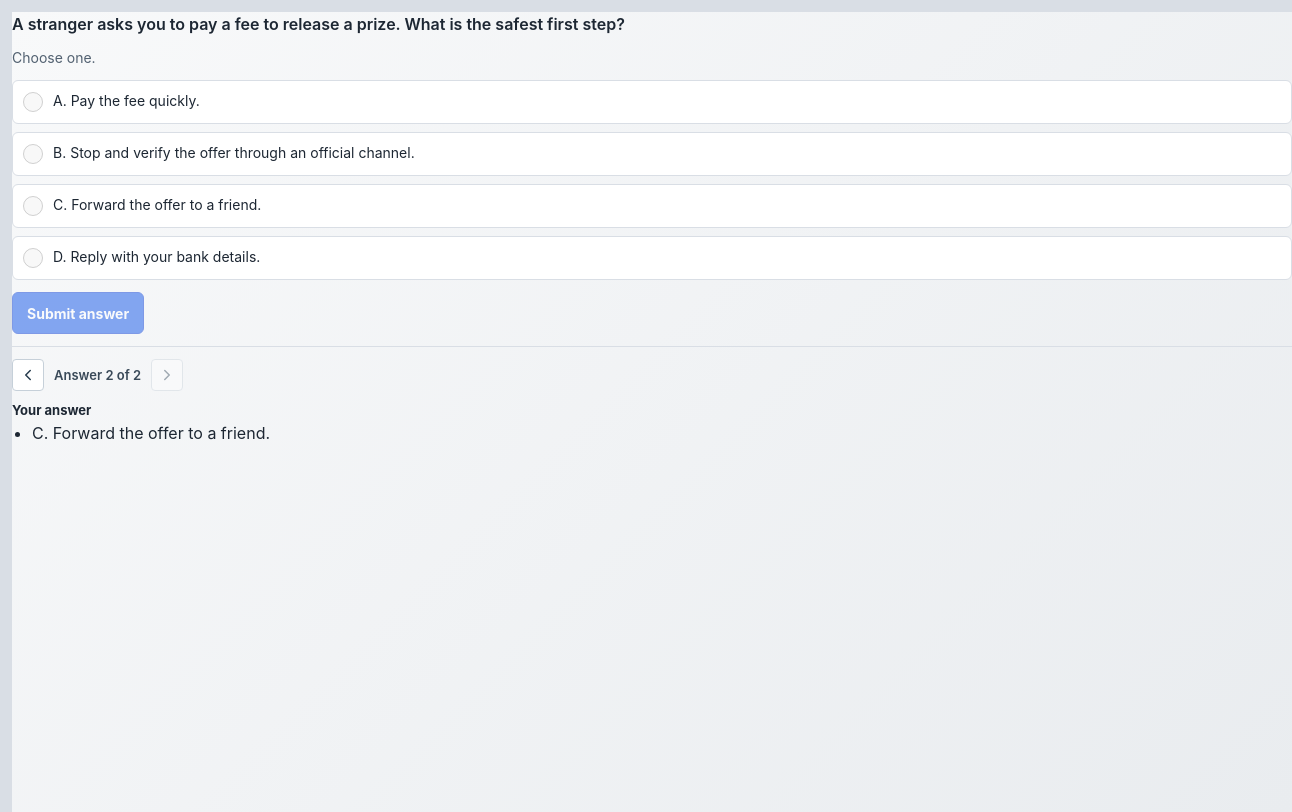
Test case: PublicAssessmentQuestion › navigates saved answers and feedback without changing the latest outcome
Expected: the text "Answer 2 of 2" is shown, [54,367,141,383]
Expected: the list item "C. Forward the offer to a friend." below "Your answer" is shown, [32,423,270,443]
Click the button named "Previous answer" at (28, 375), box [12,359,44,391]
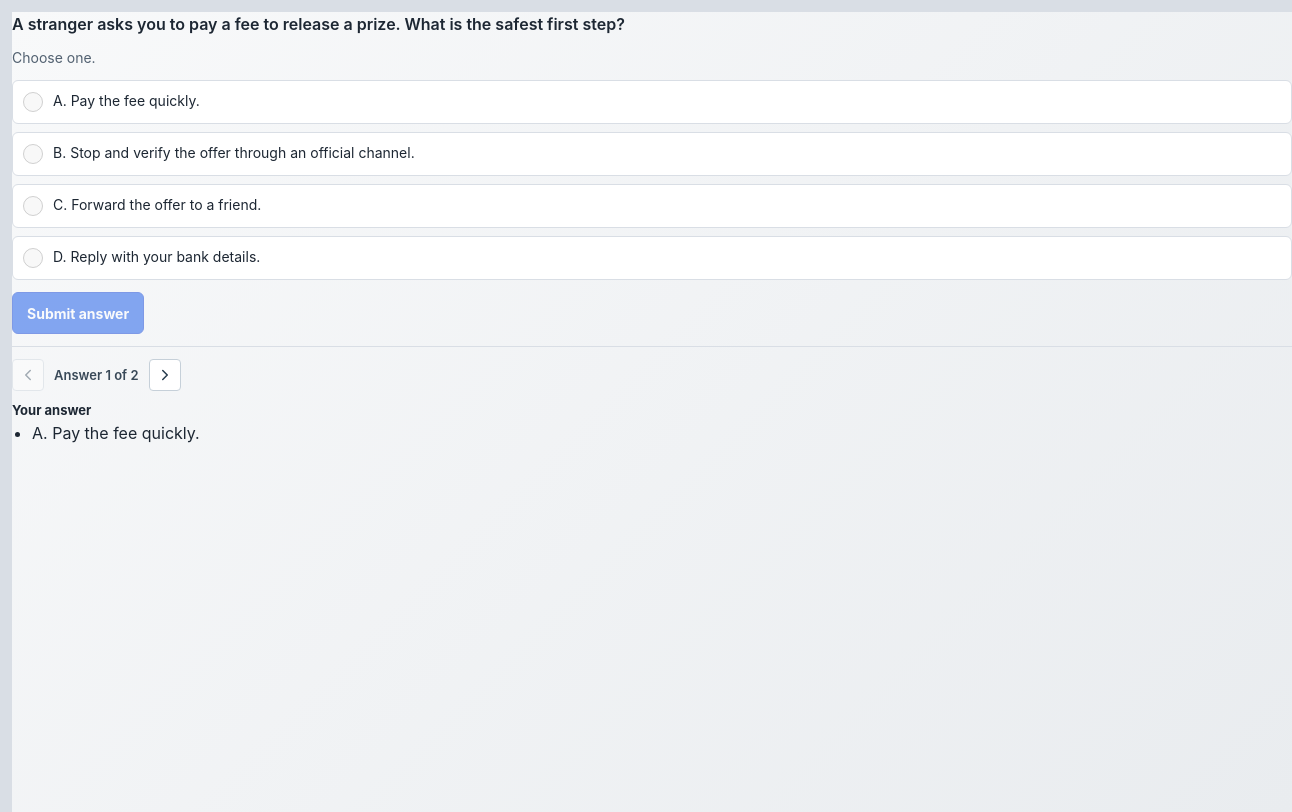
Expected: the button "Submit answer" is disabled, [12,292,144,334]
Result: the text "Answer 1 of 2" is shown at [54,367,138,383]
Result: the list item "A. Pay the fee quickly." below "Your answer" is shown at [32,423,200,443]
Click the button named "Next answer" at (164, 375), box [148,359,180,391]
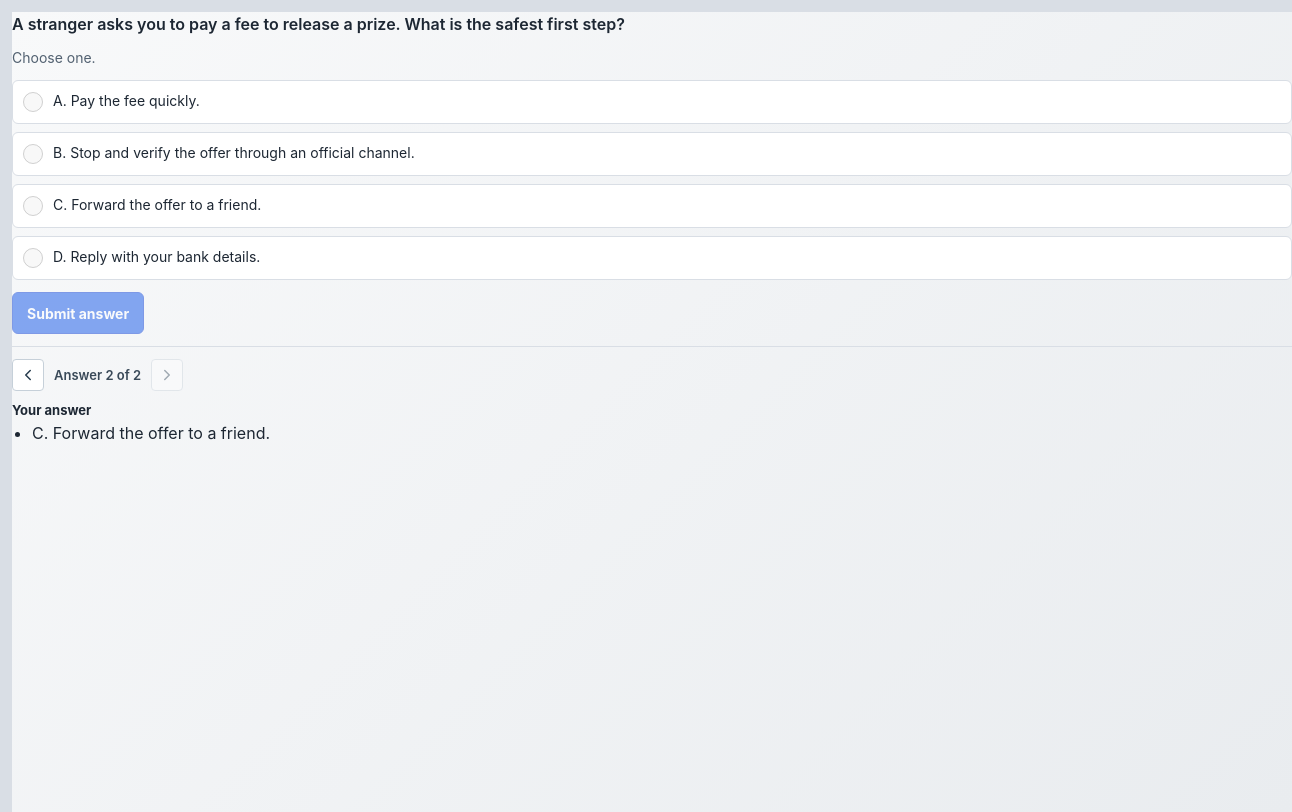
Result: the text "Answer 2 of 2" is shown at [54,367,141,383]
